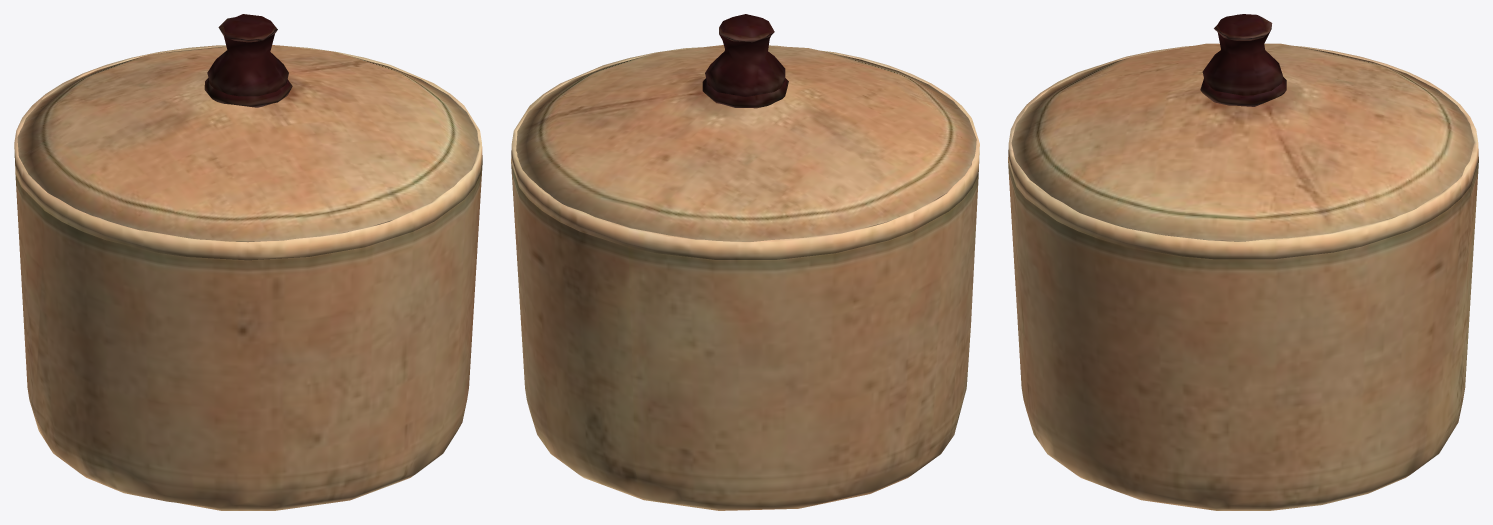
The model's file is brass_pot_01.gltf.
The picture shows the model from 3 angles, left to right: view 1: azimuth 30°, elevation 25°; view 2: azimuth 150°, elevation 25°; view 3: azimuth 270°, elevation 25°; orthographic projection.
Parts seen in each view (by area): view 1: brass_pot_01; view 2: brass_pot_01; view 3: brass_pot_01.
Part boxes in pixels (x1,y1,x2,y2): brass_pot_01: (14, 14, 482, 510); brass_pot_01: (511, 14, 979, 510); brass_pot_01: (1008, 14, 1478, 510).
Bounding box in the file's own units: 0.2988 × 0.2894 × 0.2992.
Materials: 1 (1 with a texture image).
